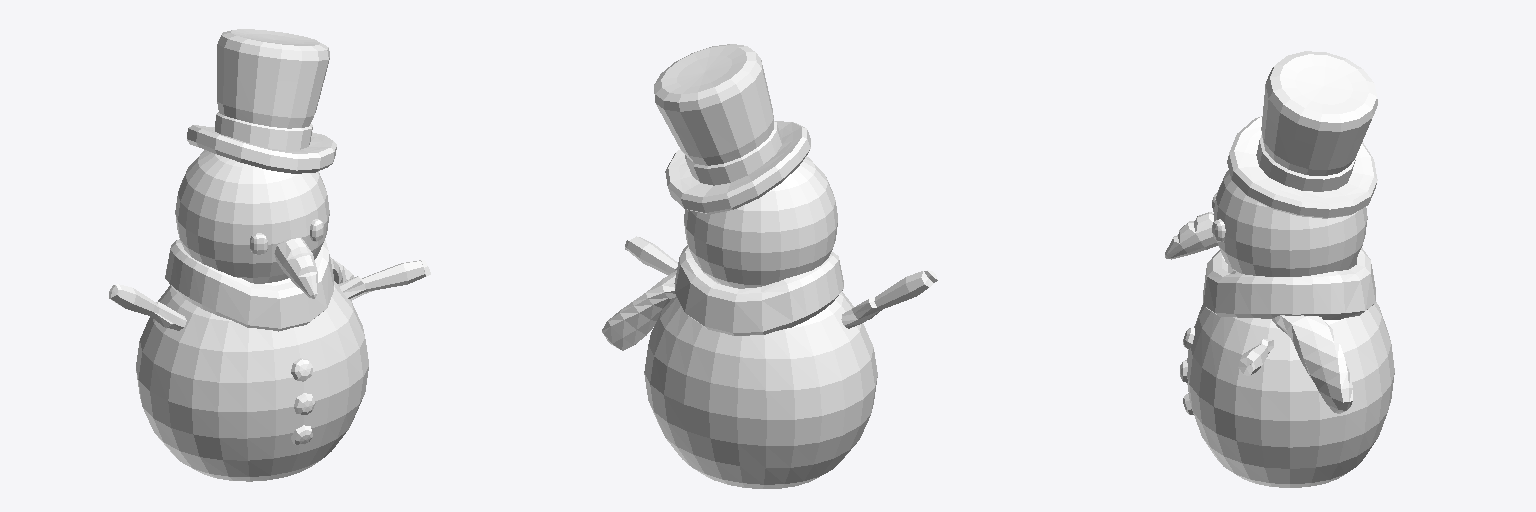
Rendered from snowman_B.obj.
The picture shows the model from 3 angles: view 1: azimuth 30°, elevation 25°; view 2: azimuth 150°, elevation 25°; view 3: azimuth 270°, elevation 25°; orthographic projection.
Visible parts, largest first — view 1: snowman_B; view 2: snowman_B; view 3: snowman_B.
Part boxes in pixels (x1,y1,x2,y2): snowman_B: (109,29,430,481); snowman_B: (602,44,937,488); snowman_B: (1165,51,1394,487).
Size of the model in its own units: 2.17 by 2.7 by 1.37.